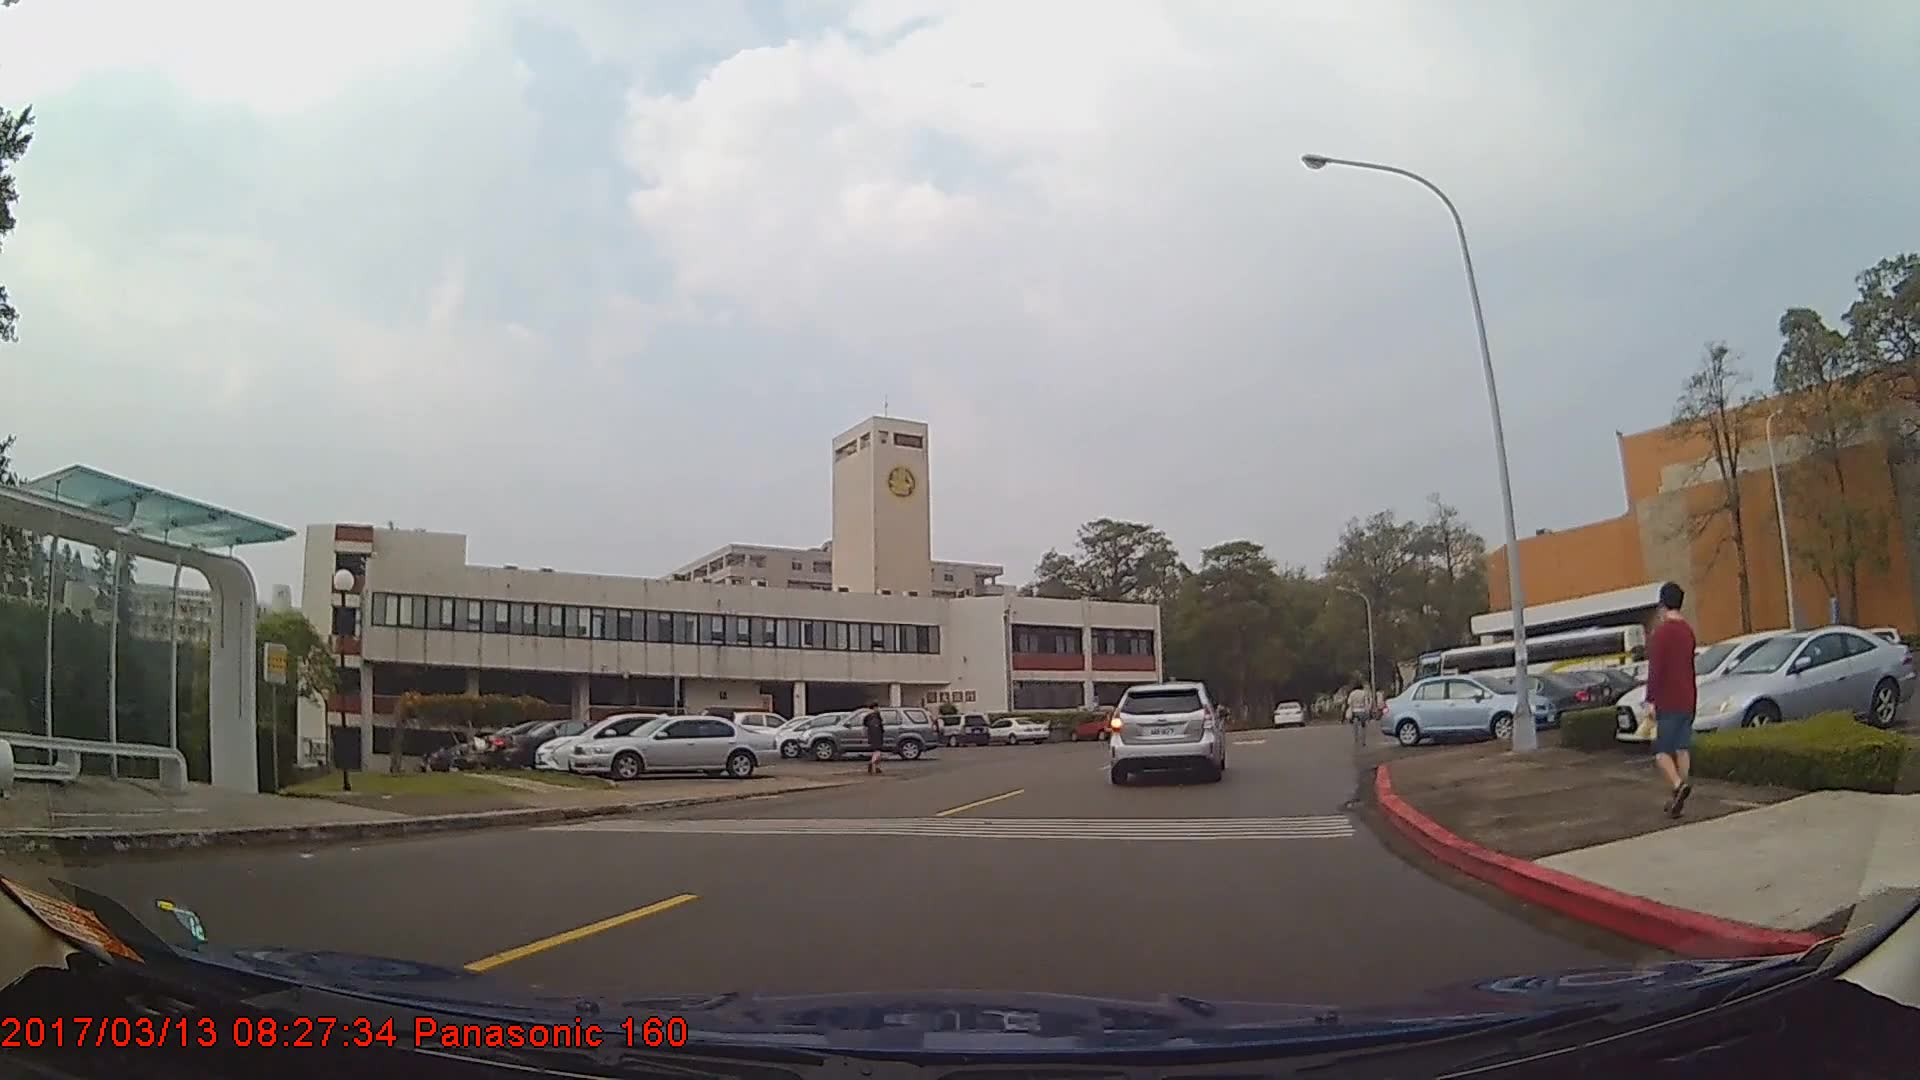pedestrian: (1651, 577, 1707, 810), (1347, 683, 1378, 747), (866, 701, 890, 774)
vehicle: (1612, 627, 1870, 742), (1675, 623, 1913, 743), (570, 713, 779, 778), (1379, 671, 1556, 745), (529, 709, 738, 772), (1110, 682, 1222, 784), (1437, 668, 1610, 726), (500, 717, 651, 771), (800, 705, 939, 759), (925, 713, 989, 748), (983, 715, 1051, 746), (1070, 710, 1131, 741), (1273, 700, 1303, 727)
